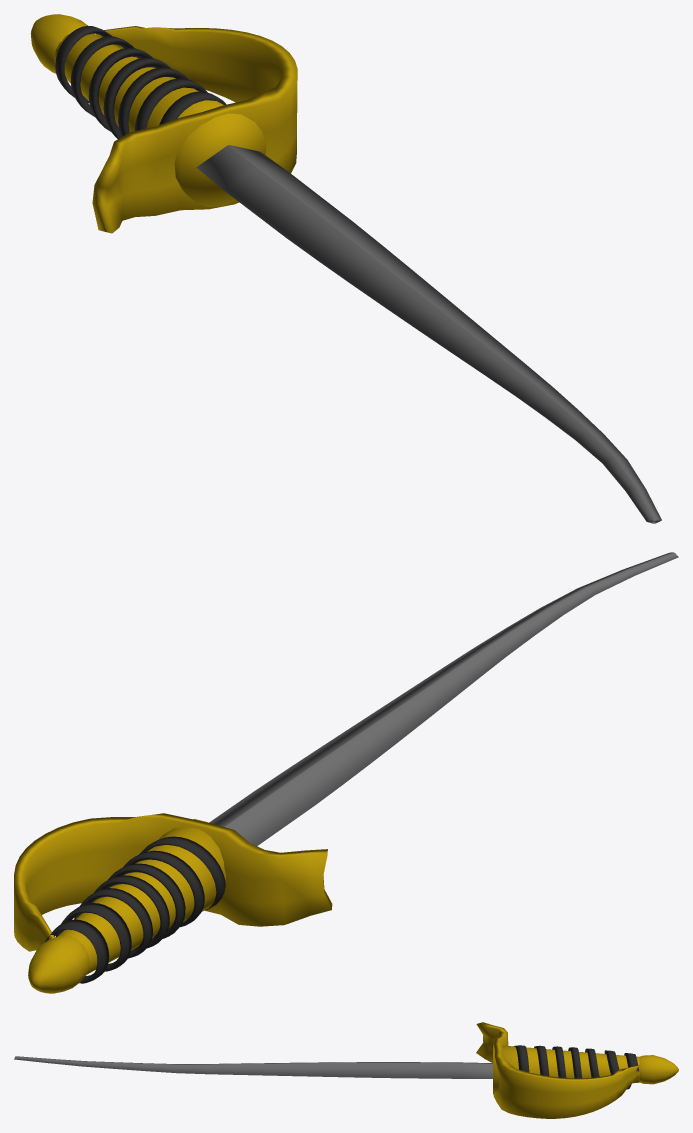
File: 1espada.glb
3 renders of one model, top to bottom at view 1: azimuth 30°, elevation 25°; view 2: azimuth 150°, elevation 25°; view 3: azimuth 270°, elevation 25°, orthographic. The views are drawn at different scales.
Parts seen in each view (by area): view 1: espada_y_otros_elementos_piratas_espada_y_otros_elementos_pi; view 2: espada_y_otros_elementos_piratas_espada_y_otros_elementos_pi; view 3: espada_y_otros_elementos_piratas_espada_y_otros_elementos_pi.
Part boxes in pixels (bbox=[...]): espada_y_otros_elementos_piratas_espada_y_otros_elementos_pi: bbox=[30, 14, 661, 523]; espada_y_otros_elementos_piratas_espada_y_otros_elementos_pi: bbox=[14, 552, 678, 993]; espada_y_otros_elementos_piratas_espada_y_otros_elementos_pi: bbox=[14, 1022, 678, 1118].
Size of the model in its own units: 0.1791 by 0.0638 by 0.8032.
